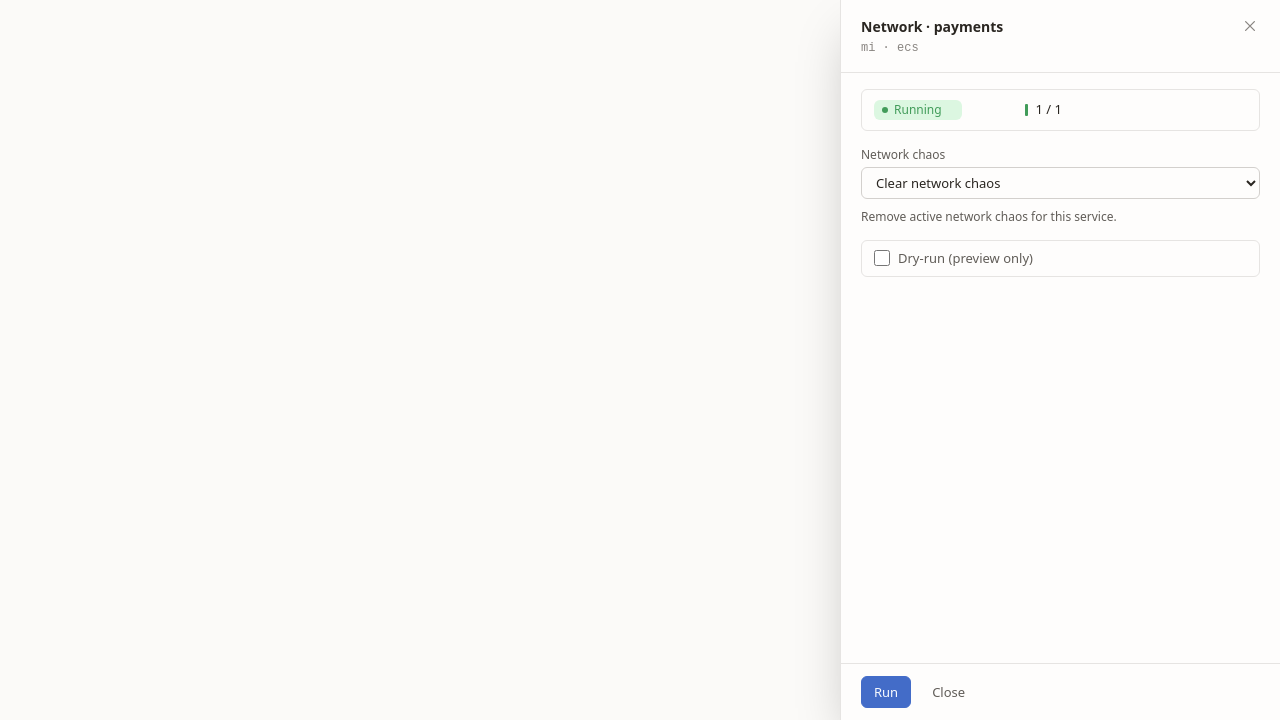
Test: <ChaosDrawer mode=network/> (ecs) › shows plain-language help for the selected action
Select "Blackhole CIDR" in the dropdown labelled "Network chaos". click: (1060, 183)
box: [861,167,1260,199]
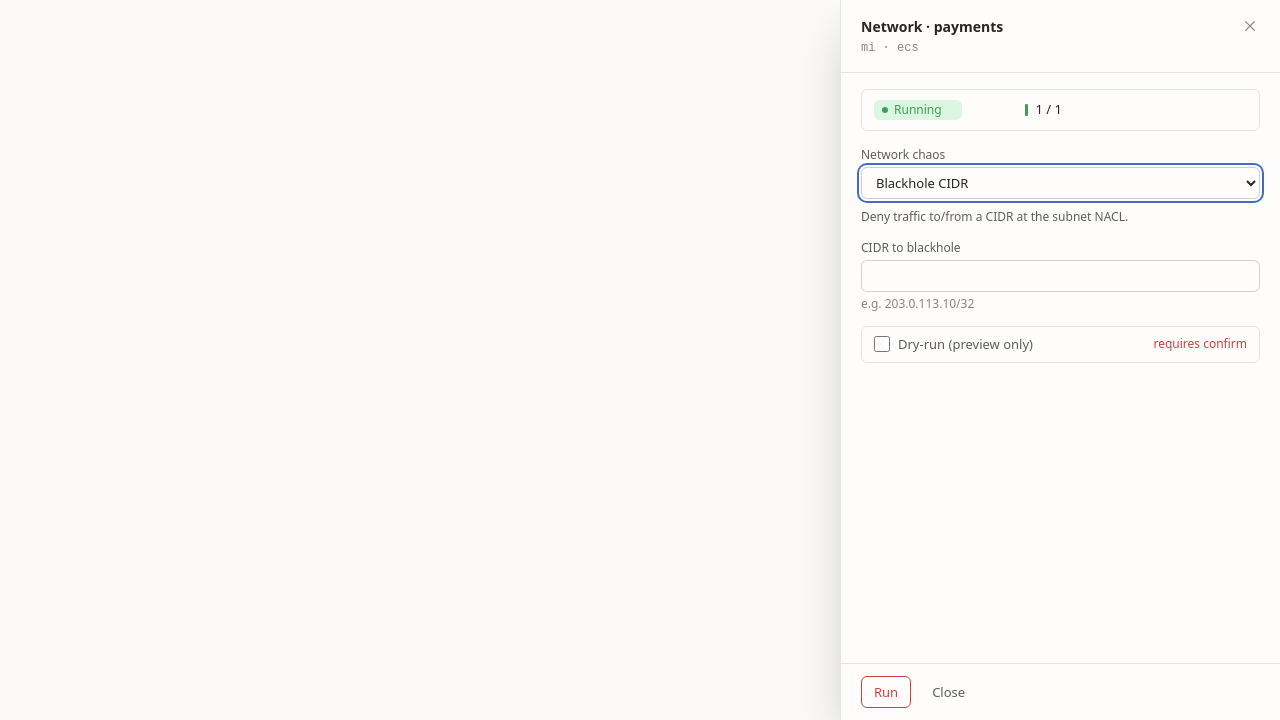
Check: the text "Deny traffic to/from a CIDR at the subnet NACL." is shown, box [861,208,1128,225]
